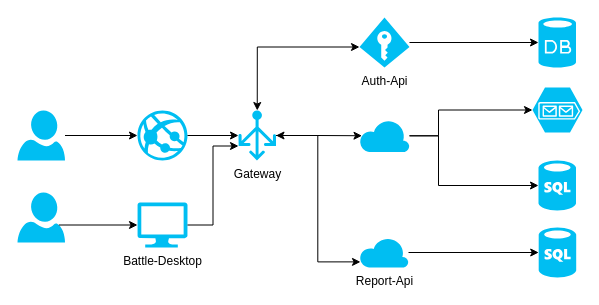
Some shapes in this 599 by 305 pixel diagram are drawn without their labels. Here are the shapes that lost their labels. From the top down, the box of each, then its label:
(137, 110, 187, 160): Battle-WebSite
(359, 119, 409, 152): Game-Api
